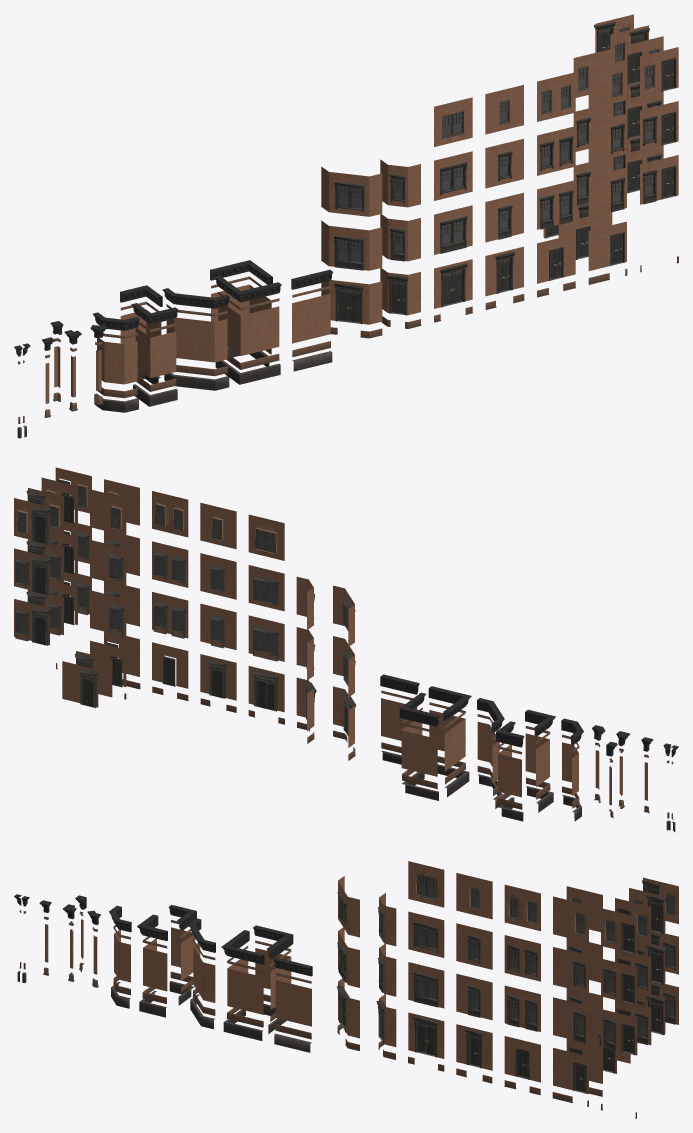
File: modular_urban_apartments_facade.glb
The picture shows the model from 3 angles, top to bottom: view 1: azimuth 30°, elevation 25°; view 2: azimuth 150°, elevation 25°; view 3: azimuth 330°, elevation 25°; orthographic projection. The views are drawn at different scales.
Parts seen in each view (by area): view 1: wall_standard_corner_large_01, wall_standard_angled_large_01, wall_window_angled_large_02, wall_window_angled_large_01, wall_standard_corner_small_01, wall_standard_standard_01, wall_standard_angled_small_01, wall_window_offset_small_05, wall_window_centered_small_03, wall_window_centered_small_02, wall_door_angled_large_01, wall_window_angled_small_02 (+38 smaller); view 2: wall_standard_corner_large_02, wall_standard_corner_large_01, wall_window_offset_small_06, wall_window_centered_small_03, wall_window_centered_small_02, wall_window_offset_small_04, wall_window_centered_small_01, wall_window_offset_small_02, wall_window_centered_double_03, wall_door_centered_small_02, door_window_small_04, wall_window_centered_large_03 (+38 smaller); view 3: wall_standard_corner_large_01, wall_standard_standard_01, wall_window_centered_small_03, wall_window_offset_small_05, wall_window_centered_small_02, wall_window_offset_small_03, wall_window_centered_small_01, wall_window_centered_double_03, wall_door_centered_small_02, wall_standard_corner_small_01, wall_window_offset_small_01, wall_window_centered_large_03 (+58 smaller).
Boxes of the visible parts, x1=… form: wall_standard_corner_large_01: x1=218, y1=306, x2=279, y2=355; wall_standard_angled_large_01: x1=166, y1=317, x2=227, y2=362; wall_window_angled_large_02: x1=321, y1=166, x2=382, y2=216; wall_window_angled_large_01: x1=321, y1=220, x2=382, y2=270; wall_standard_corner_small_01: x1=135, y1=328, x2=176, y2=377; wall_standard_standard_01: x1=292, y1=294, x2=330, y2=343; wall_standard_angled_small_01: x1=97, y1=338, x2=137, y2=384; wall_window_offset_small_05: x1=588, y1=59, x2=626, y2=109; wall_window_centered_small_03: x1=485, y1=85, x2=523, y2=134; wall_window_centered_small_02: x1=485, y1=139, x2=523, y2=188; wall_door_angled_large_01: x1=321, y1=280, x2=382, y2=324; wall_window_angled_small_02: x1=380, y1=159, x2=420, y2=207; wall_standard_corner_large_02: x1=401, y1=721, x2=437, y2=776; wall_standard_corner_large_01: x1=429, y1=710, x2=465, y2=771; wall_window_offset_small_06: x1=90, y1=489, x2=126, y2=535; wall_window_centered_small_03: x1=200, y1=502, x2=236, y2=549; wall_window_centered_small_02: x1=200, y1=553, x2=236, y2=599; wall_window_offset_small_04: x1=90, y1=540, x2=126, y2=586; wall_window_centered_small_01: x1=200, y1=603, x2=236, y2=649; wall_window_offset_small_02: x1=90, y1=590, x2=126, y2=636; wall_window_centered_double_03: x1=152, y1=491, x2=188, y2=537; wall_door_centered_small_02: x1=152, y1=642, x2=188, y2=688; door_window_small_04: x1=14, y1=605, x2=51, y2=645; wall_window_centered_large_03: x1=248, y1=514, x2=284, y2=560; wall_standard_corner_large_01: x1=227, y1=959, x2=263, y2=1014; wall_standard_standard_01: x1=275, y1=980, x2=311, y2=1026; wall_window_centered_small_03: x1=456, y1=873, x2=492, y2=919; wall_window_offset_small_05: x1=553, y1=896, x2=588, y2=942; wall_window_centered_small_02: x1=456, y1=923, x2=492, y2=969; wall_window_offset_small_03: x1=553, y1=947, x2=588, y2=993; wall_window_centered_small_01: x1=456, y1=973, x2=492, y2=1020; wall_window_centered_double_03: x1=504, y1=884, x2=540, y2=930; wall_door_centered_small_02: x1=504, y1=1036, x2=540, y2=1082; wall_standard_corner_small_01: x1=143, y1=938, x2=167, y2=991; wall_window_offset_small_01: x1=553, y1=997, x2=588, y2=1043; wall_window_centered_large_03: x1=408, y1=861, x2=444, y2=907.
Size of the model in its own units: 51.53 by 17 by 6.67.
5 materials, 5 textured.
